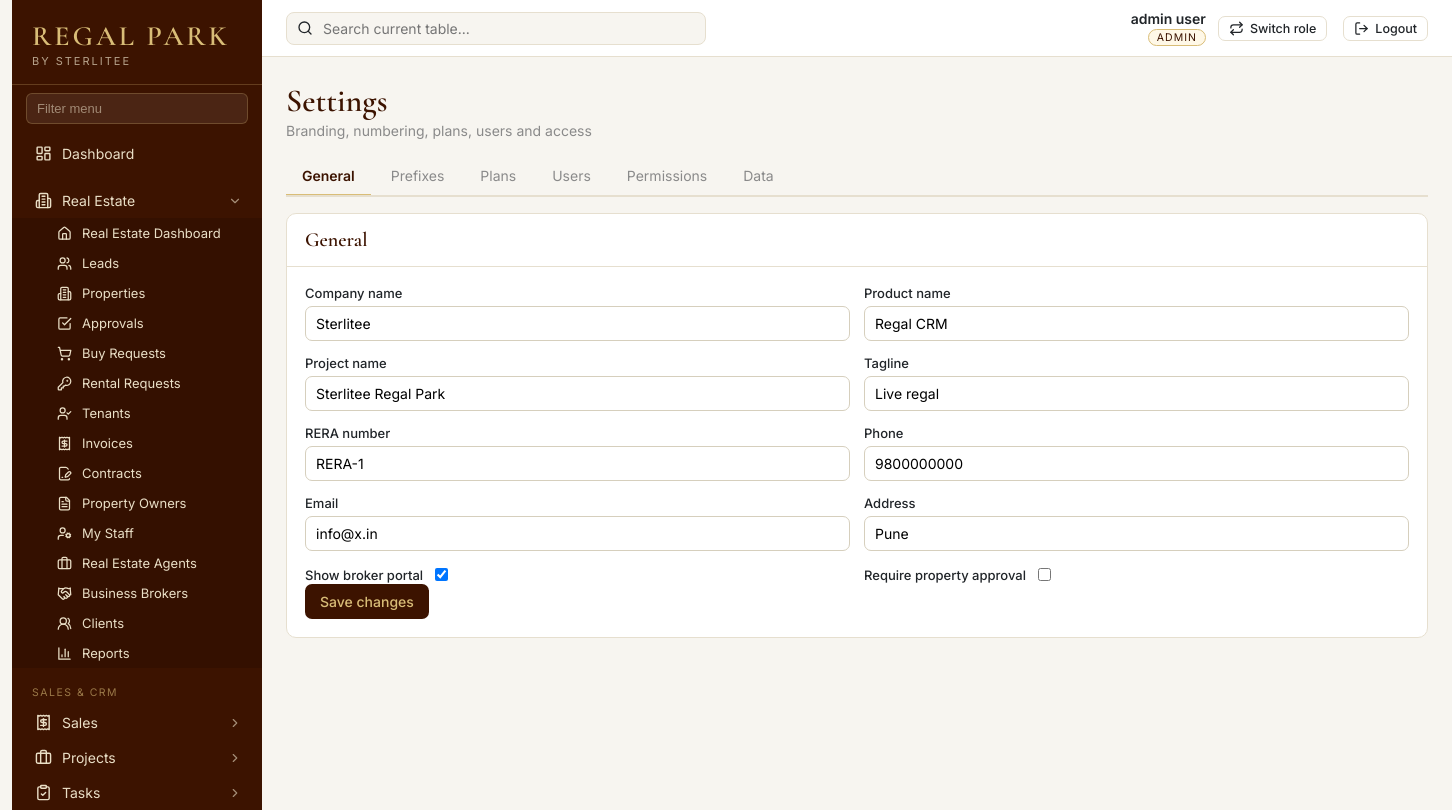
Settings tabs (PLAN §7) › Prefixes tab renders (Number prefixes)
Expected: the button "Logout" is shown, [1343,16,1428,40]
Expected: the heading "Settings" is shown, [286,81,388,120]
What coordinates should you click on to do the following:
click the tab "Prefixes"
I would click on:
 (418, 177)
Its box is [375,157,460,197].
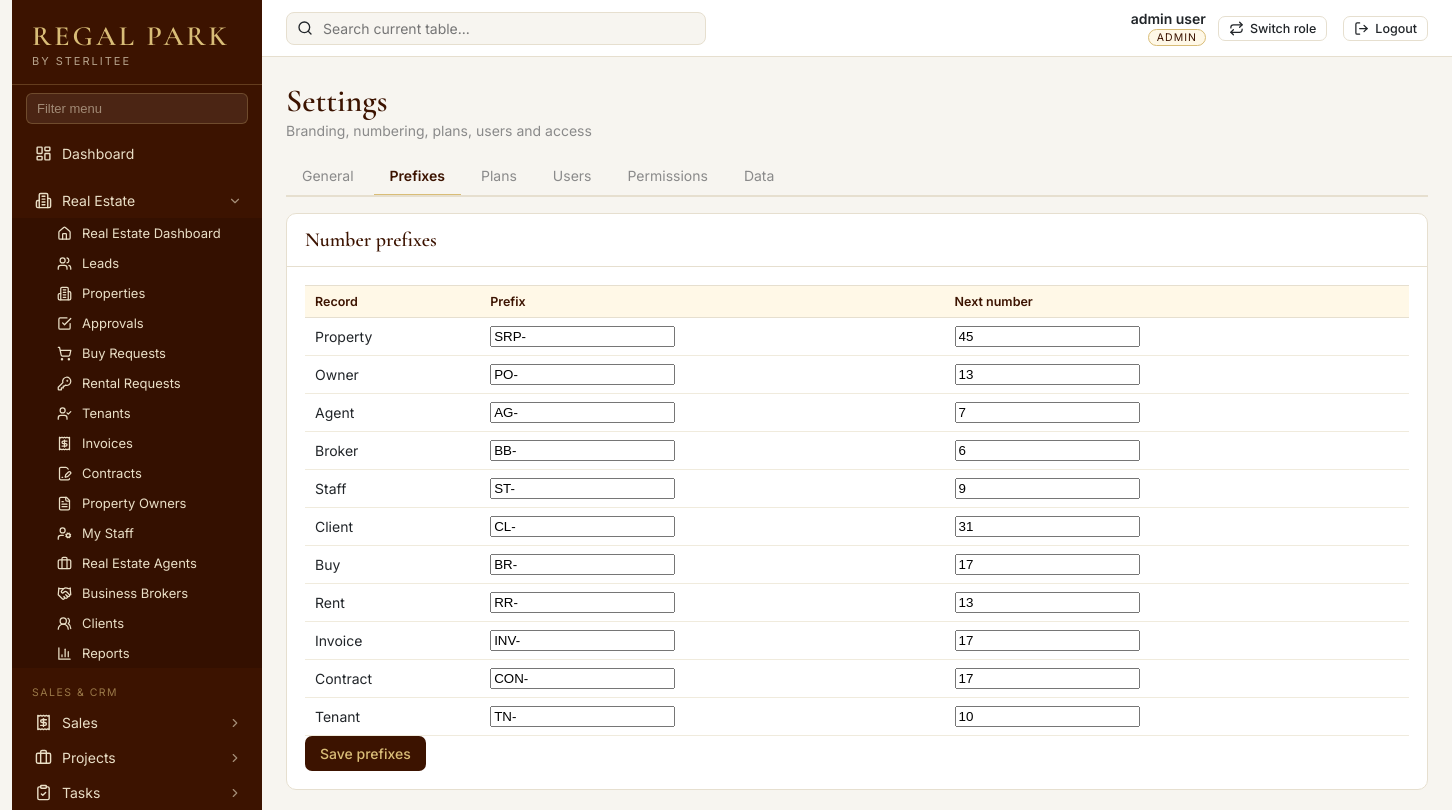
Expected: the heading "Number prefixes" is shown, [305,228,437,252]
